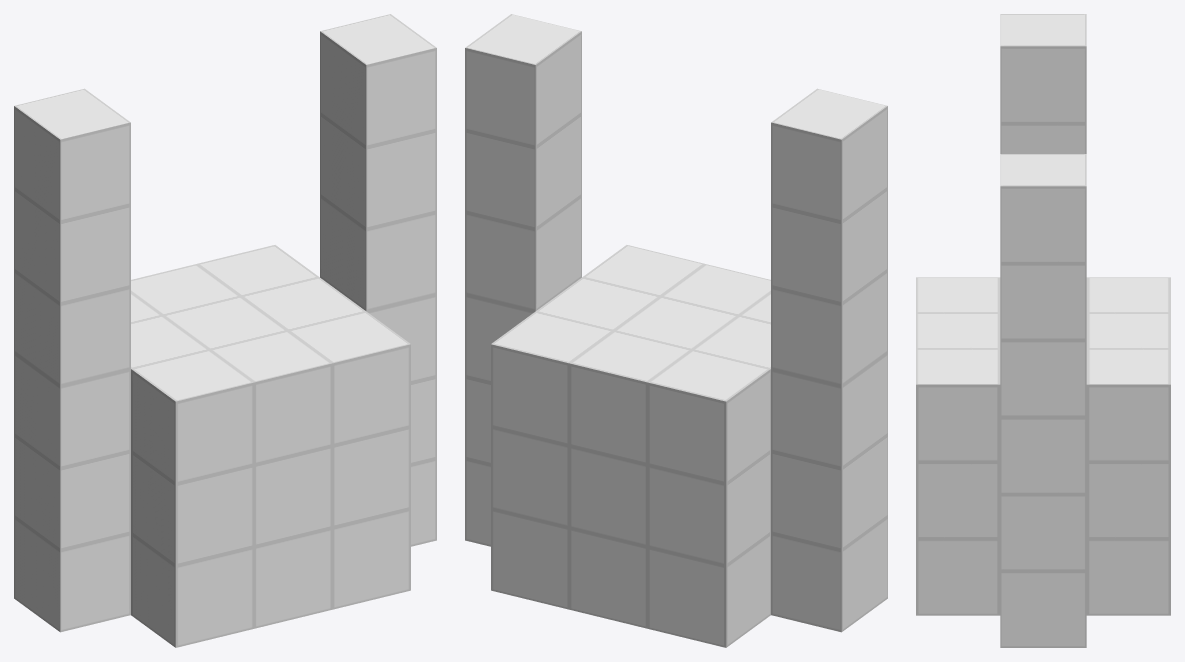
Rendered from Gate2.fbx.
3 views of the same model, side by side, from view 1: azimuth 30°, elevation 25°; view 2: azimuth 150°, elevation 25°; view 3: azimuth 270°, elevation 25° (orthographic). The views are drawn at different scales.
Visible parts, largest first — view 1: GateCool; view 2: GateCool; view 3: GateCool.
Boxes of the visible parts, box(x1,y1,x2,y2) form: GateCool: box(14, 14, 436, 647); GateCool: box(465, 14, 887, 647); GateCool: box(916, 14, 1170, 647).
Bounding box in the file's own units: 480 × 600 × 300.
